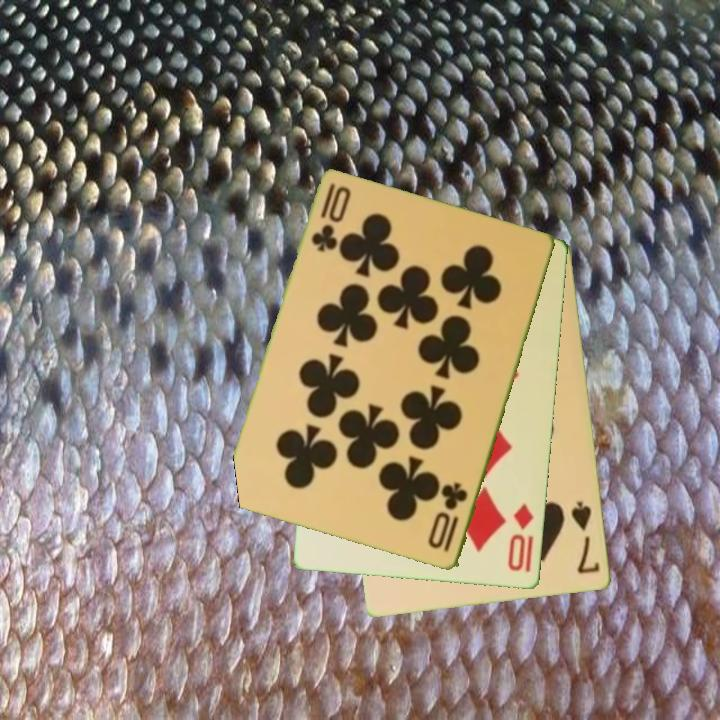10c: (425, 479, 471, 555), (308, 180, 352, 256)
10d: (504, 500, 537, 575)
7s: (568, 498, 603, 577)
